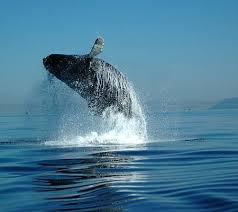humpback: (43, 52, 147, 137)
